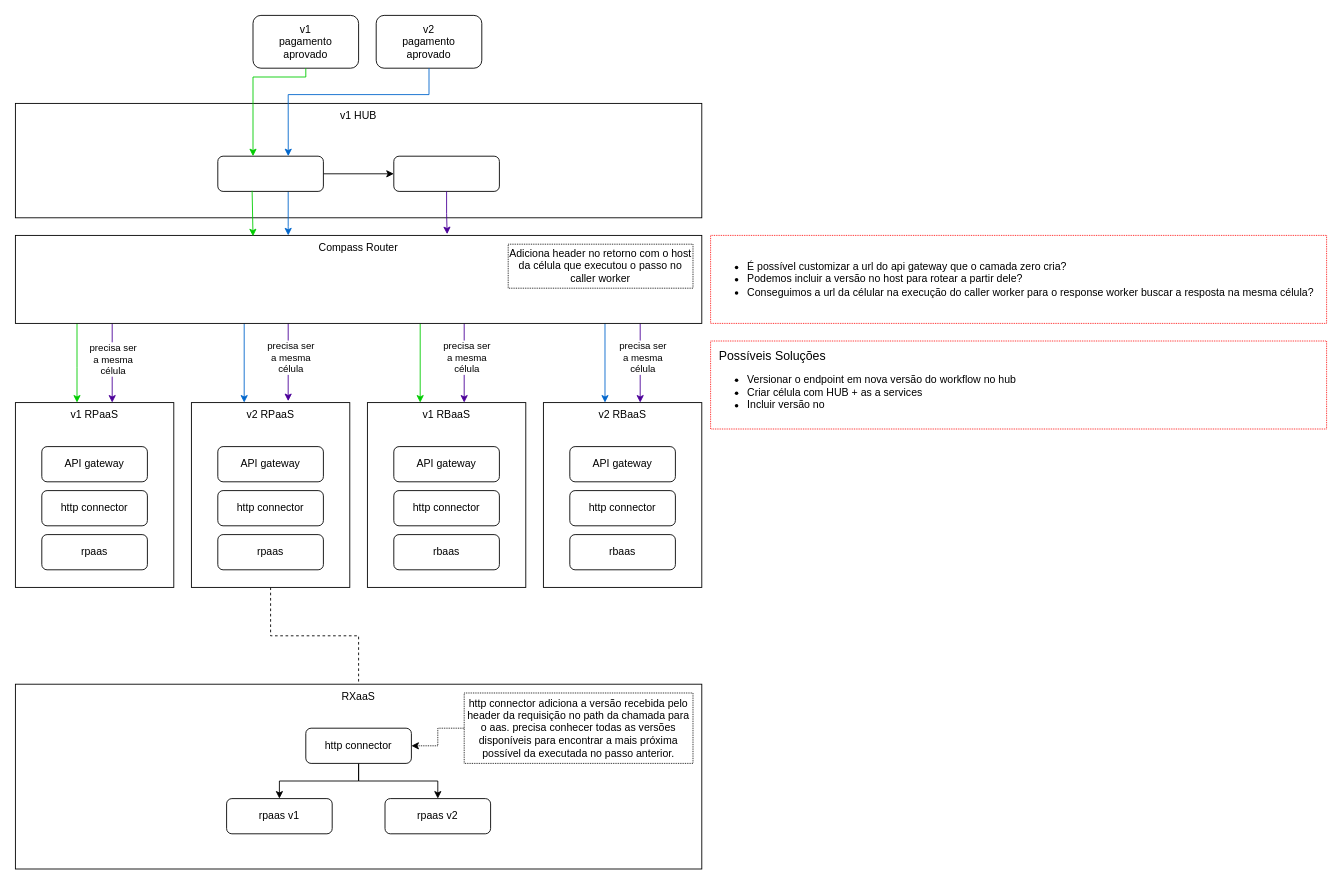
The diagram is 1342 pixels wide and 884 high, and some of its shapes have lost their labels. Each missing label, with the centre of its shape:
"caller worker" goes at point 270,173.
"response worker" goes at point 446,173.
